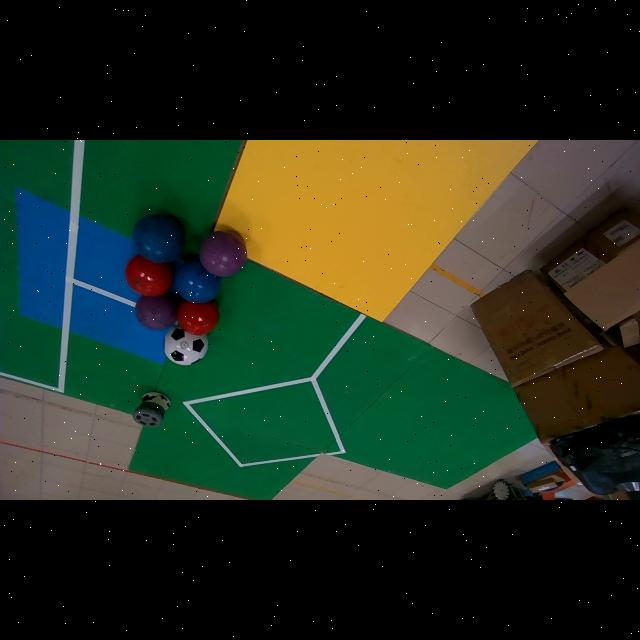B: (133, 214, 184, 263), (174, 257, 221, 303)
P: (199, 231, 247, 277), (135, 292, 178, 331)
R: (125, 255, 174, 297), (178, 301, 220, 336)
